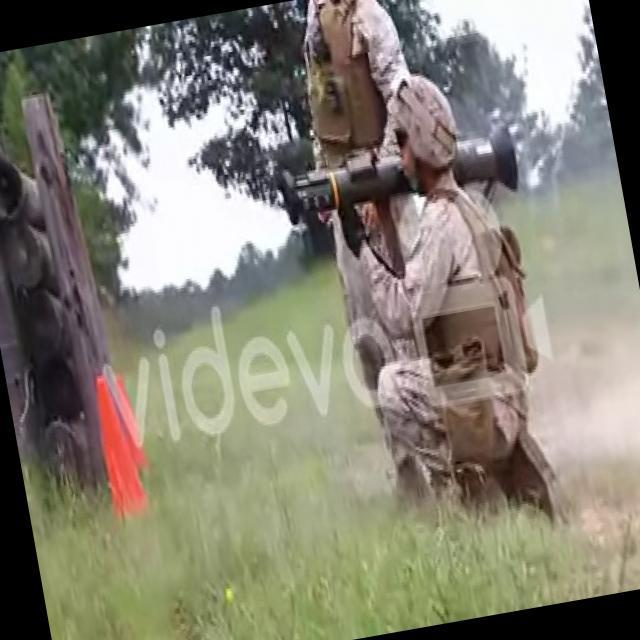rocket: (279, 129, 523, 228)
